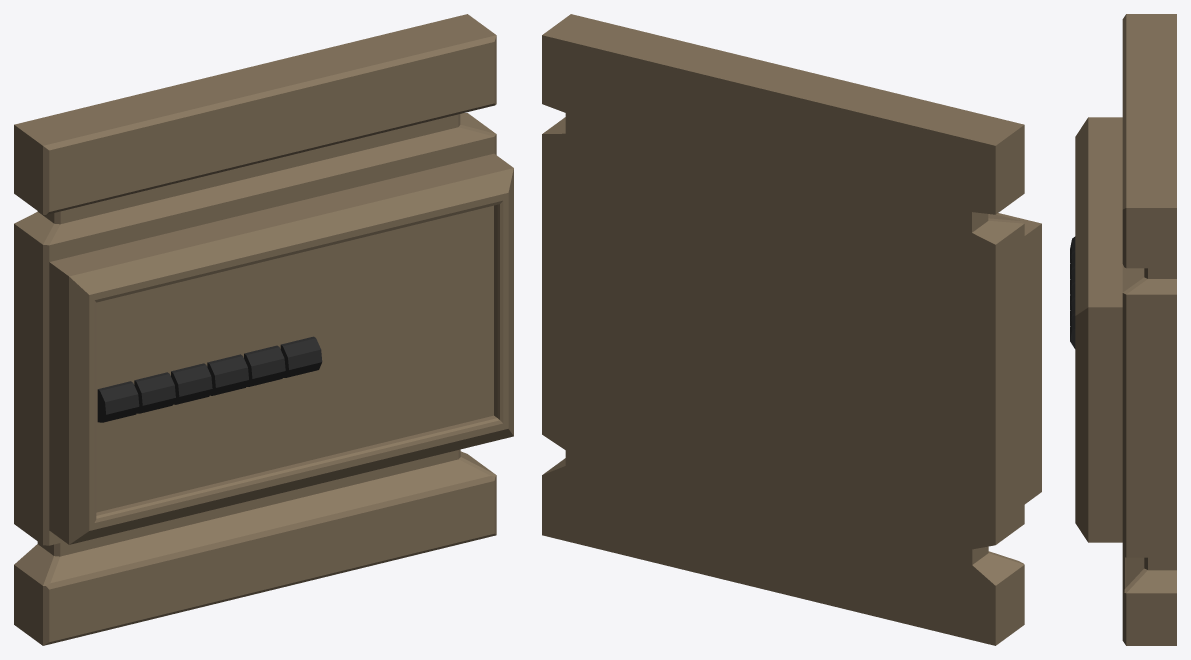
Rendered from CONTADOR ELECTRICO.fbx.
3 renders of one model, left to right at view 1: azimuth 30°, elevation 25°; view 2: azimuth 150°, elevation 25°; view 3: azimuth 270°, elevation 25°, orthographic. The views are drawn at different scales.
Parts seen in each view (by area): view 1: CONTADOR ELECTRICO; view 2: CONTADOR ELECTRICO; view 3: CONTADOR ELECTRICO.
Part boxes in pixels (x1=…): CONTADOR ELECTRICO: x1=14, y1=14, x2=513, y2=645; CONTADOR ELECTRICO: x1=542, y1=14, x2=1041, y2=645; CONTADOR ELECTRICO: x1=1070, y1=14, x2=1176, y2=645.
Bounding box in the file's own units: 26.65 × 28.08 × 6.21.
